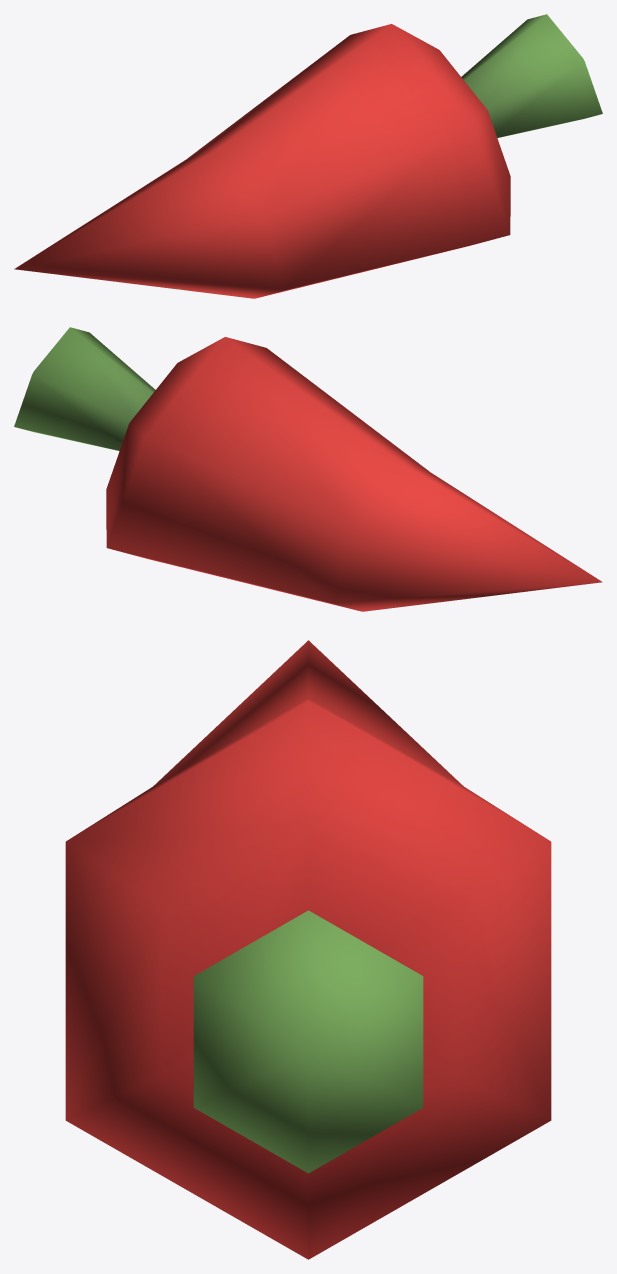
File: Pepper.FBX
3 renders of one model, top to bottom at view 1: azimuth 30°, elevation 25°; view 2: azimuth 150°, elevation 25°; view 3: azimuth 270°, elevation 25°, orthographic. The views are drawn at different scales.
Visible parts, largest first — view 1: Pepper; view 2: Pepper; view 3: Pepper.
Part boxes in pixels (x1,y1,x2,y2): Pepper: (14,14,602,298); Pepper: (14,327,602,611); Pepper: (65,640,551,1259).
Size of the model in its own units: 0.9374 by 0.3799 by 0.3464.
